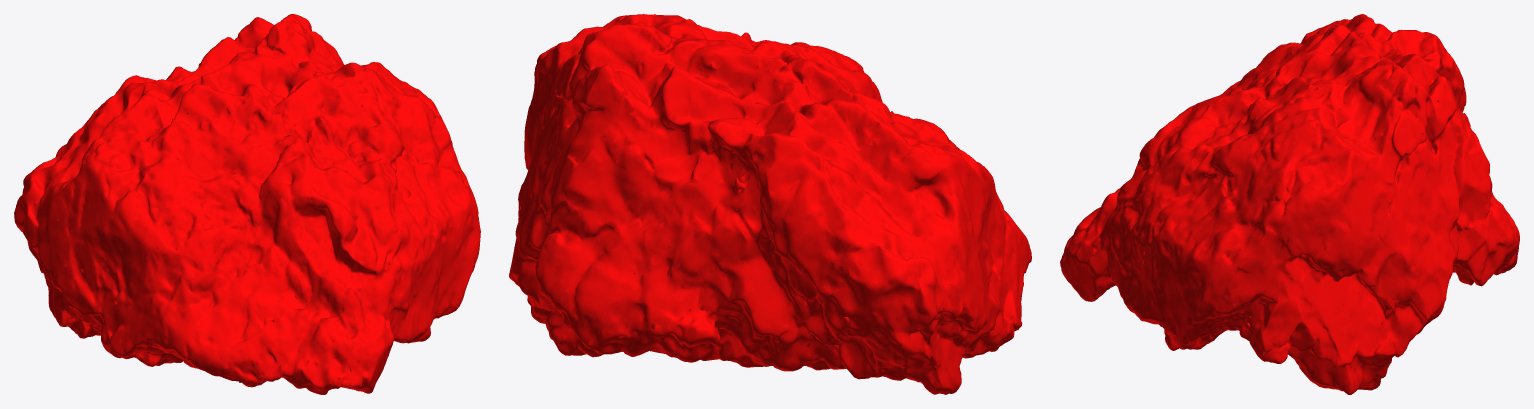
File: stone_032.glb
The picture shows the model from 3 angles, left to right: view 1: azimuth 30°, elevation 25°; view 2: azimuth 150°, elevation 25°; view 3: azimuth 270°, elevation 25°; orthographic projection. The views are drawn at different scales.
Parts seen in each view (by area): view 1: rock_16; view 2: rock_16; view 3: rock_16.
Boxes of the visible parts, x1,y1,x2,y2 form: rock_16: (14, 14, 480, 394); rock_16: (509, 14, 1031, 394); rock_16: (1060, 14, 1519, 394).
Bounding box in the file's own units: 0.3 × 0.2143 × 0.3.
